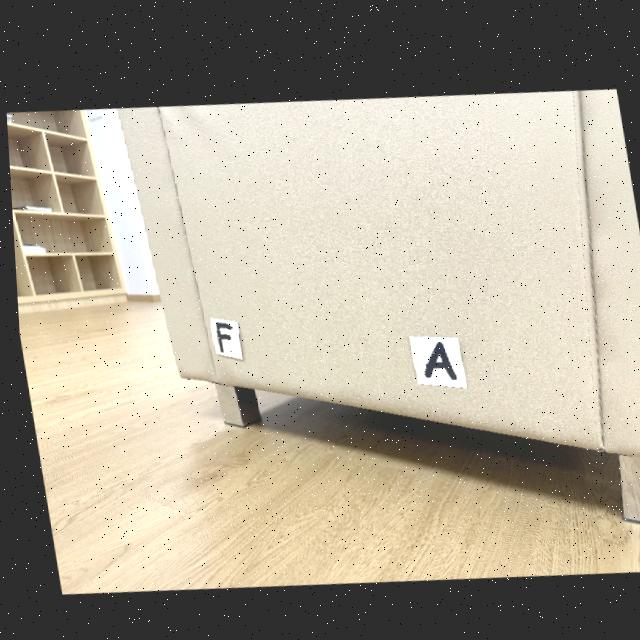A: (420, 336, 452, 374)
F: (212, 319, 228, 349)
